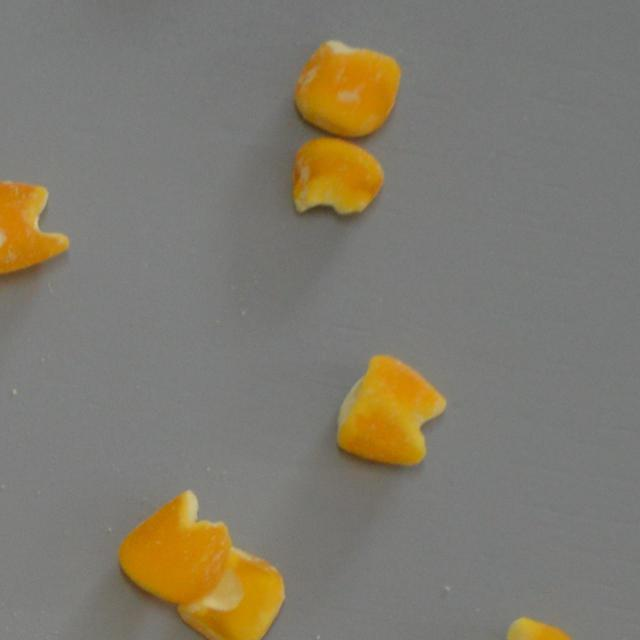dañado: (111, 483, 236, 612), (329, 348, 450, 474), (288, 31, 408, 141), (172, 541, 294, 640), (288, 132, 392, 224), (0, 176, 73, 284)
pelicula: (463, 612, 585, 640)
